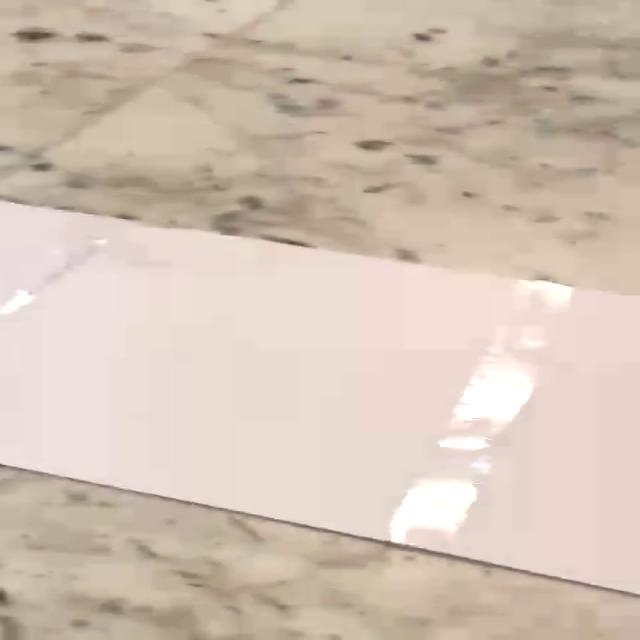road: (1, 203, 637, 592)
